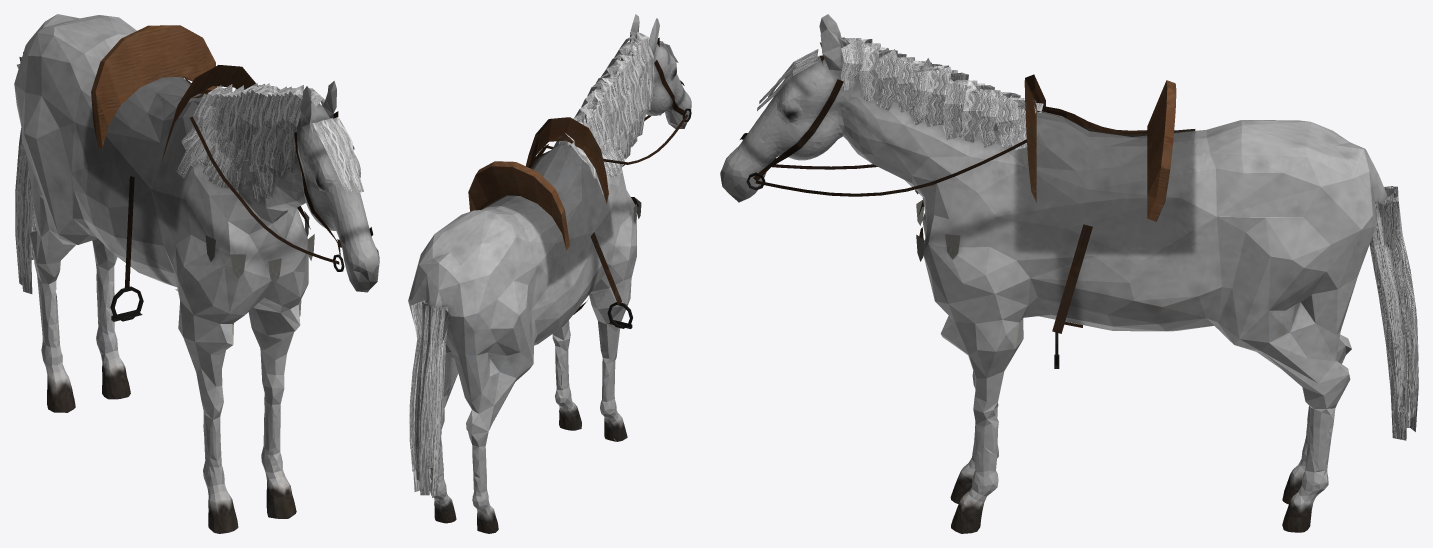
The model's file is horse_light.glb.
3 views of the same model, side by side, from view 1: azimuth 30°, elevation 25°; view 2: azimuth 150°, elevation 25°; view 3: azimuth 270°, elevation 25° (orthographic). The views are drawn at different scales.
Visible parts, largest first — view 1: horse_light_LOD0; view 2: horse_light_LOD0; view 3: horse_light_LOD0.
Boxes of the visible parts, x1,y1,x2,y2 form: horse_light_LOD0: (14, 14, 379, 533); horse_light_LOD0: (408, 14, 691, 533); horse_light_LOD0: (720, 14, 1418, 533).
Size of what is drawn, in the model's own units: 0.7424 by 1.8 by 2.31.
1 material, 1 textured.
